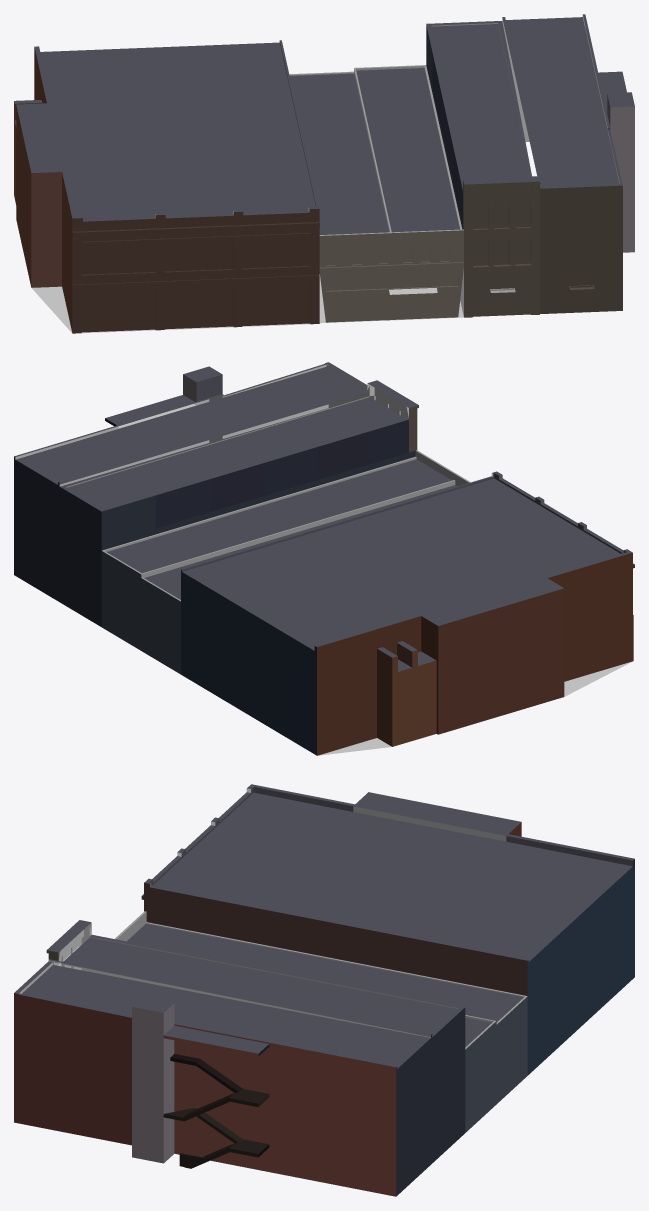
File: 45-55-east-main.glb
The picture shows the model from 3 angles, top to bottom: view 1: azimuth 30°, elevation 25°; view 2: azimuth 150°, elevation 25°; view 3: azimuth 270°, elevation 25°; orthographic projection. The views are drawn at different scales.
Visible parts, largest first — view 1: LOD0; view 2: LOD0; view 3: LOD0.
Boxes of the visible parts, x1=… form: LOD0: x1=14, y1=14, x2=634, y2=333; LOD0: x1=14, y1=362, x2=634, y2=755; LOD0: x1=14, y1=784, x2=634, y2=1196.
Size of what is drawn, in the model's own units: 66.55 by 15.86 by 59.3.
2 materials, 2 textured.
